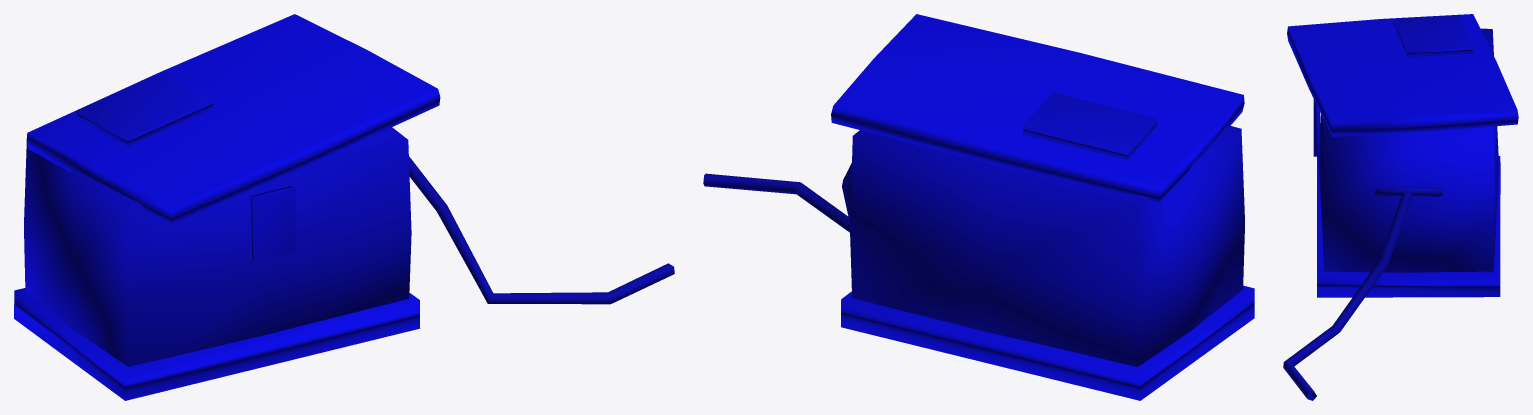
Rendered from old_tin.glb.
3 views of the same model, side by side, from view 1: azimuth 30°, elevation 25°; view 2: azimuth 150°, elevation 25°; view 3: azimuth 270°, elevation 25° (orthographic). The views are drawn at different scales.
Parts seen in each view (by area): view 1: old_tin; view 2: old_tin; view 3: old_tin.
Part boxes in pixels (bbox=[...]): old_tin: bbox=[14, 14, 674, 400]; old_tin: bbox=[703, 14, 1254, 400]; old_tin: bbox=[1283, 14, 1518, 400].
Size of what is drawn, in the model's own units: 0.8597 by 0.3491 by 0.389.
